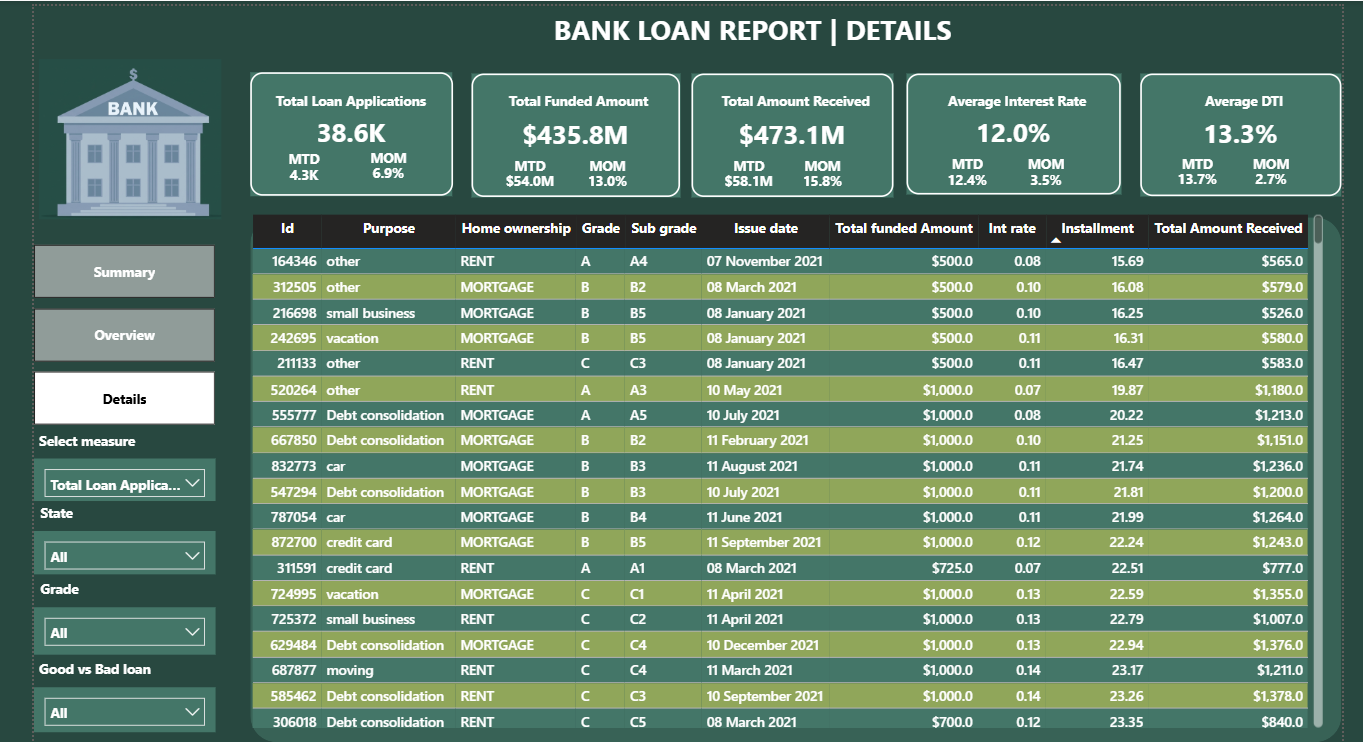

What the dashboard file says about the page in this screenshot:
{"tool":"powerbi","page":{"name":"Details","canvas":[1280,720],"ordinal":2},"visuals":[{"type":"textbox","box":[435.3,0,535.6,52.6],"z":0},{"type":"card","title":"Total Loan Applications","fields":{"Values":["financial_loan.Total funded Amount"]},"box":[428,66,204.2,121.1],"z":0,"group":"g1"},{"type":"card","title":"Total Loan Applications","fields":{"Values":["financial_loan.Total Amount Received"]},"box":[643.2,66,197.6,121.1],"z":0,"group":"g4"},{"type":"card","title":"Total Loan Applications","fields":{"Values":["financial_loan.Avg Interest Rate"]},"box":[853.5,66,209.9,118.6],"z":0,"group":"g6"},{"type":"card","title":"Total Loan Applications","fields":{"Values":["financial_loan.Avg DTI"]},"box":[1082.2,66,196.9,119.8],"z":0,"group":"g7"},{"type":"card","title":"Total Loan Applications","fields":{"Values":["financial_loan.Total Loan Applications"]},"box":[211.6,64.8,198.1,121.1],"z":1000,"group":"g11"},{"type":"card","title":"MTD","fields":{"Values":["financial_loan.MTD Avg Int Rate"]},"box":[873.9,145.1,77.2,39.5],"z":1000,"group":"g6"},{"type":"card","title":"MTD","fields":{"Values":["financial_loan.MTD Avg DTI"]},"box":[1101.3,145.9,72.5,39.9],"z":1000,"group":"g7"},{"type":"card","title":"MTD","fields":{"Values":["financial_loan.MTD Funded Amount"]},"box":[447.9,146.7,75.2,40.4],"z":1000,"group":"g1"},{"type":"card","title":"MTD","fields":{"Values":["financial_loan.MTD Total Amount Received"]},"box":[662.4,146.7,72.7,40.4],"z":1000,"group":"g4"},{"type":"shape","box":[211.6,206.7,1067.5,513.6],"z":1000},{"type":"group","id":"g1","title":"Group 2","box":[428,66,204.2,121.1],"z":1001,"group":"g9"},{"type":"group","id":"g2","title":"Group 2","box":[643.2,66,197.6,121.1],"z":1001,"group":"g10"},{"type":"group","id":"g3","title":"Group 3","box":[1082.2,66,196.9,119.8],"z":2000},{"type":"textbox","box":[873.9,77.9,174.9,31.6],"z":2000,"group":"g6"},{"type":"textbox","box":[1101.3,78,164.1,32],"z":2000,"group":"g7"},{"type":"textbox","box":[447.9,78.1,170.2,32.3],"z":2000,"group":"g1"},{"type":"textbox","box":[662.4,78.1,164.7,32.3],"z":2000,"group":"g4"},{"type":"card","title":"MTD","fields":{"Values":["financial_loan.MTD Loan Applications"]},"box":[227.5,140.6,73.4,40.4],"z":2000,"group":"g11"},{"type":"group","id":"g4","title":"Group 3","box":[643.2,66,197.6,121.1],"z":2001,"group":"g2"},{"type":"group","id":"g5","title":"Group 3","box":[853.5,66,209.9,118.6],"z":2001,"group":"g8"},{"type":"group","id":"g6","title":"Group 4","box":[853.5,66,209.9,118.6],"z":2002,"group":"g5"},{"type":"group","id":"g7","title":"Group 4","box":[1082.2,66,196.9,119.8],"z":2002,"group":"g3"},{"type":"group","id":"g8","title":"Group 2","box":[853.5,66,209.1,118.6],"z":3000},{"type":"card","title":"MOM","fields":{"Values":["financial_loan.MOM Avg Int Rate"]},"box":[951.1,145.1,77.2,39.5],"z":3000,"group":"g6"},{"type":"card","title":"MOM","fields":{"Values":["financial_loan.MOM Avg DTI"]},"box":[1173.8,145.9,72.5,39.9],"z":3000,"group":"g7"},{"type":"card","title":"MOM","fields":{"Values":["financial_loan.MOM Funded Amount"]},"box":[523,146.7,75.2,40.4],"z":3000,"group":"g1"},{"type":"card","title":"MOM","fields":{"Values":["financial_loan.MOM Total Amount Received"]},"box":[735.1,146.7,72.7,40.4],"z":3000,"group":"g4"},{"type":"group","id":"g9","title":"Group 1","box":[428,66,204.2,121.1],"z":4000},{"type":"group","id":"g10","title":"Group 1","box":[643.2,66,198.1,121.1],"z":5000},{"type":"textbox","box":[227.5,78.3,165.1,33],"z":5000,"group":"g11"},{"type":"group","id":"g11","title":"Group 5","box":[211.6,64.8,198.1,121.1],"z":6000},{"type":"card","title":"MOM","fields":{"Values":["financial_loan.MOM Loan Applications"]},"box":[310.6,139.4,72.1,40.4],"z":7000,"group":"g11"},{"type":"slicer","fields":{"Values":["financial_loan.address_state"]},"box":[0,513.6,177.3,42.8],"z":7000},{"type":"textbox","box":[1.2,481.8,53.8,31.8],"z":8000},{"type":"slicer","fields":{"Values":["financial_loan.grade"]},"box":[0,588.2,177.3,46.5],"z":9000},{"type":"textbox","box":[1.2,556.4,64.8,31.8],"z":10000},{"type":"slicer","fields":{"Values":["financial_loan.Good vs Bad Loan"]},"box":[0,666.4,177.3,44],"z":11000},{"type":"textbox","box":[0,634.7,150.4,31.8],"z":12000},{"type":"slicer","fields":{"Values":["Parameter.Parameter"]},"box":[0,442.7,177.3,41.6],"z":13000},{"type":"textbox","box":[0,410.9,150.4,31.8],"z":14000},{"type":"tableEx","fields":{"Values":["financial_loan.id","financial_loan.purpose","financial_loan.home_ownership","financial_loan.grade","financial_loan.sub_grade","financial_loan.issue_date","financial_loan.Total funded Amount","Sum(financial_loan.int_rate)","Sum(financial_loan.installment)","financial_loan.Total Amount Received"]},"box":[207.9,199.3,1057.8,511.1],"z":15000},{"type":"pageNavigator","box":[0,233.6,177.3,177.3],"z":16000},{"type":"image","box":[0,39.1,188.3,182.2],"z":16001}]}

Visuals, with their boxes on the page's 1280x720 design canvas (x1, y1, x2, y2). These are canvas units, not pixel positions in the 1363x742 screenshot, which may show the page scaled, cropped or inside an application window:
textbox: bbox=[435, 0, 971, 53]
"Total Loan Applications" card: bbox=[428, 66, 632, 187]
"Total Loan Applications" card: bbox=[643, 66, 841, 187]
"Total Loan Applications" card: bbox=[854, 66, 1063, 185]
"Total Loan Applications" card: bbox=[1082, 66, 1279, 186]
"Total Loan Applications" card: bbox=[212, 65, 410, 186]
"MTD" card: bbox=[874, 145, 951, 185]
"MTD" card: bbox=[1101, 146, 1174, 186]
"MTD" card: bbox=[448, 147, 523, 187]
"MTD" card: bbox=[662, 147, 735, 187]
shape: bbox=[212, 207, 1279, 720]
"Group 2" group: bbox=[428, 66, 632, 187]
"Group 2" group: bbox=[643, 66, 841, 187]
"Group 3" group: bbox=[1082, 66, 1279, 186]
textbox: bbox=[874, 78, 1049, 110]
textbox: bbox=[1101, 78, 1265, 110]
textbox: bbox=[448, 78, 618, 110]
textbox: bbox=[662, 78, 827, 110]
"MTD" card: bbox=[228, 141, 301, 181]
"Group 3" group: bbox=[643, 66, 841, 187]
"Group 3" group: bbox=[854, 66, 1063, 185]
"Group 4" group: bbox=[854, 66, 1063, 185]
"Group 4" group: bbox=[1082, 66, 1279, 186]
"Group 2" group: bbox=[854, 66, 1063, 185]
"MOM" card: bbox=[951, 145, 1028, 185]
"MOM" card: bbox=[1174, 146, 1246, 186]
"MOM" card: bbox=[523, 147, 598, 187]
"MOM" card: bbox=[735, 147, 808, 187]
"Group 1" group: bbox=[428, 66, 632, 187]
"Group 1" group: bbox=[643, 66, 841, 187]
textbox: bbox=[228, 78, 393, 111]
"Group 5" group: bbox=[212, 65, 410, 186]
"MOM" card: bbox=[311, 139, 383, 180]
slicer - financial_loan.address_state: bbox=[0, 514, 177, 556]
textbox: bbox=[1, 482, 55, 514]
slicer - financial_loan.grade: bbox=[0, 588, 177, 635]
textbox: bbox=[1, 556, 66, 588]
slicer - financial_loan.Good vs Bad Loan: bbox=[0, 666, 177, 710]
textbox: bbox=[0, 635, 150, 666]
slicer - Parameter.Parameter: bbox=[0, 443, 177, 484]
textbox: bbox=[0, 411, 150, 443]
tableEx - financial_loan.id x financial_loan.purpose: bbox=[208, 199, 1266, 710]
pageNavigator: bbox=[0, 234, 177, 411]
image: bbox=[0, 39, 188, 221]
